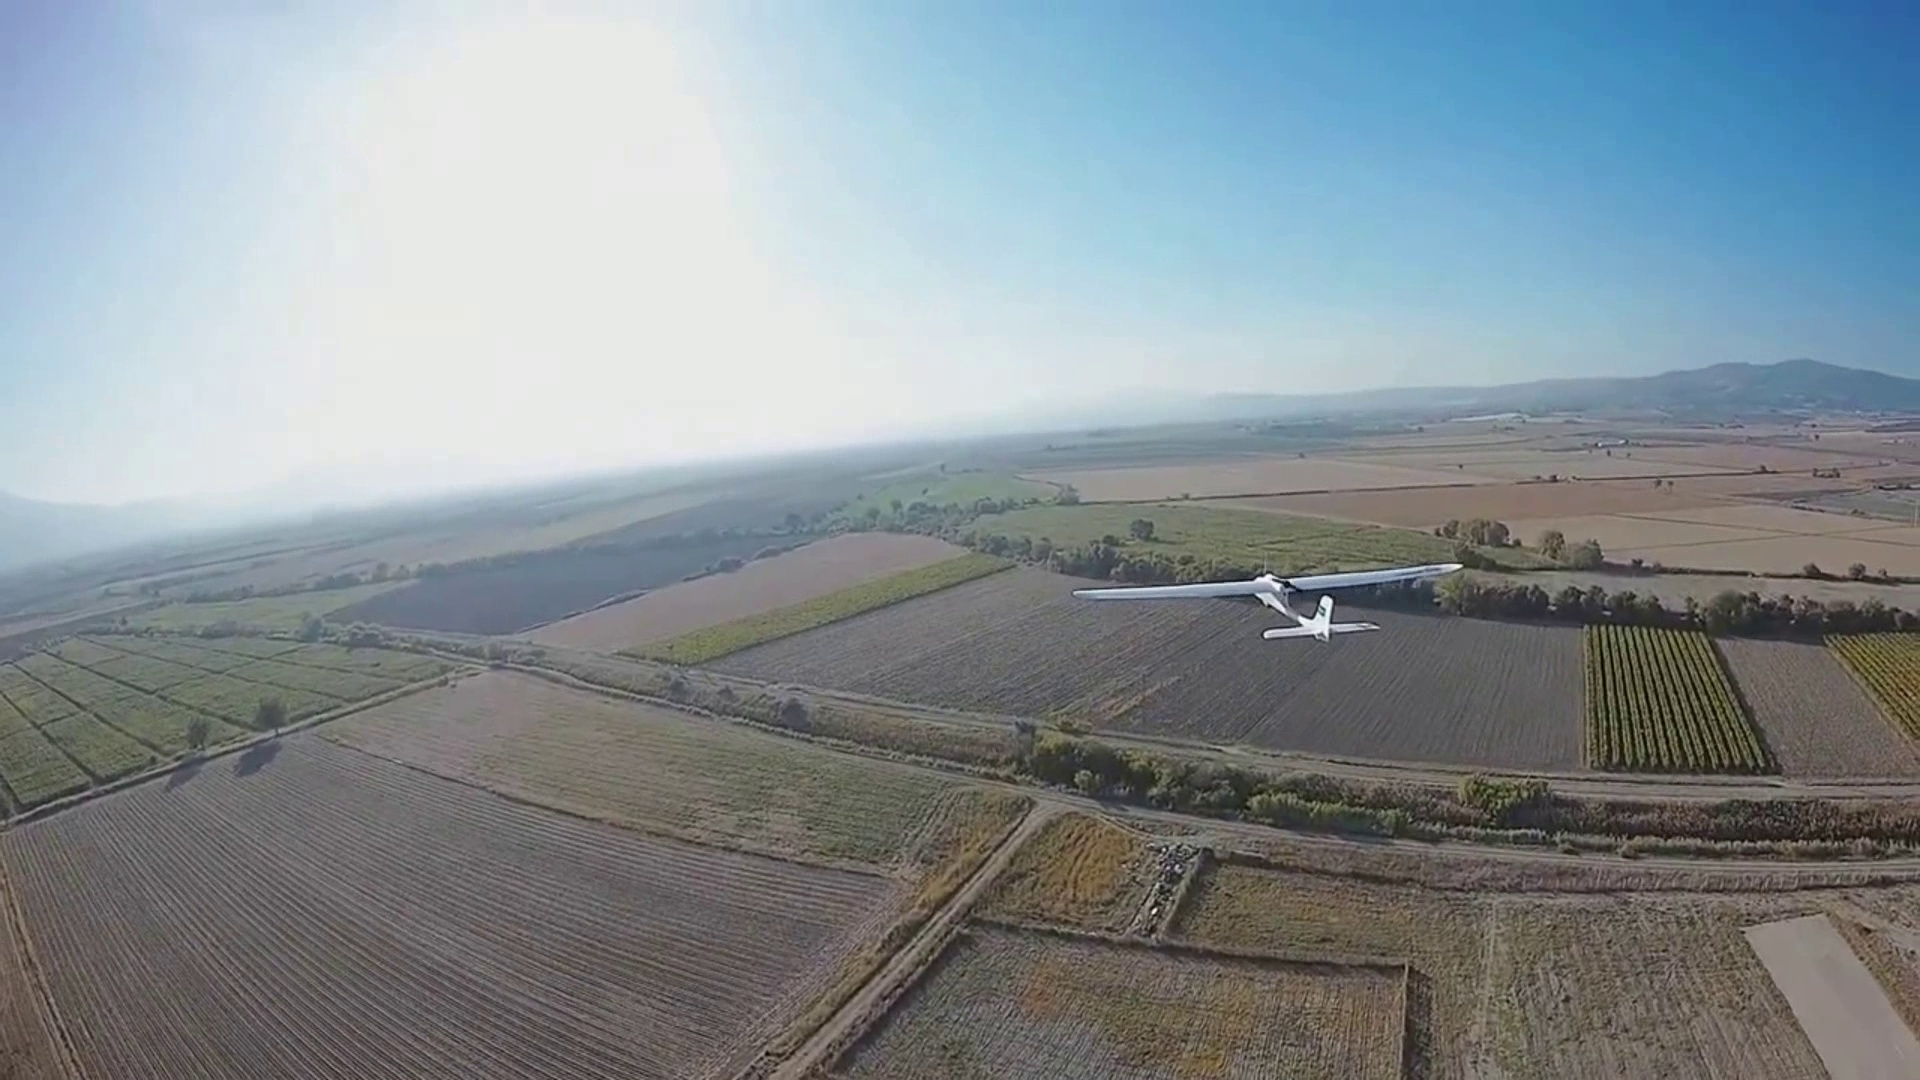airplane: (1253, 565, 1454, 642)
